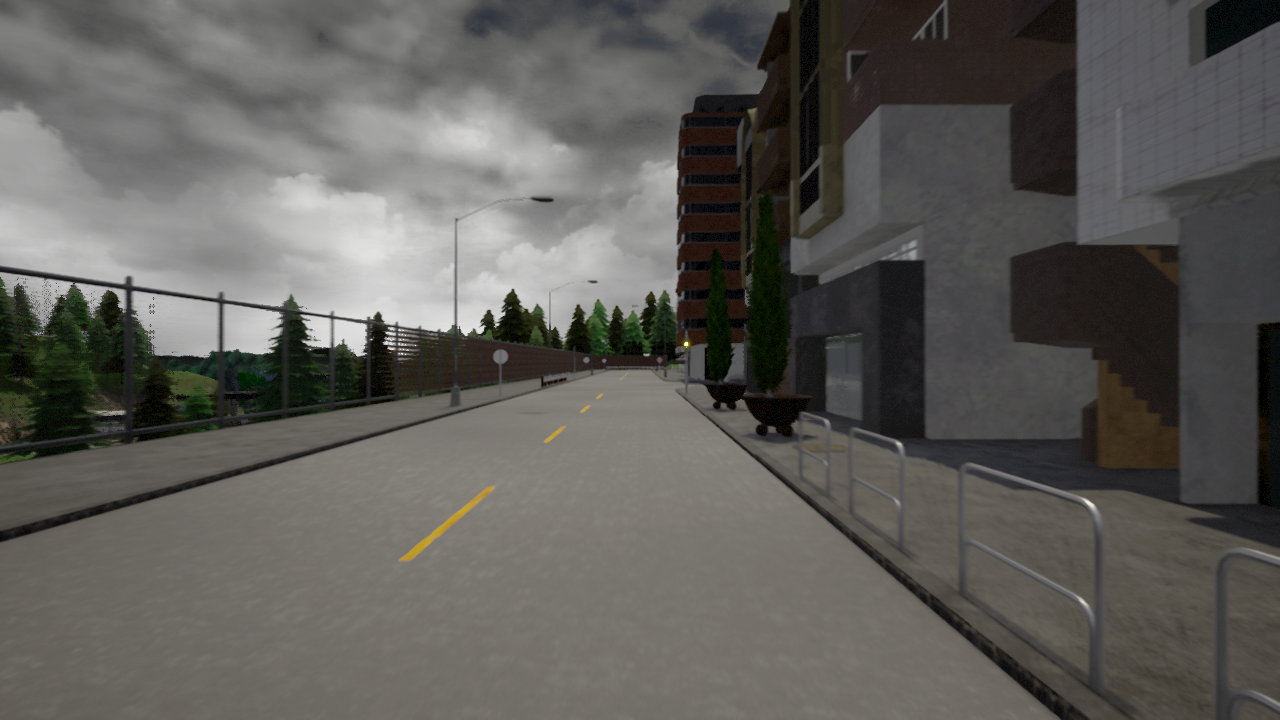yellow: (682, 337, 690, 354)
